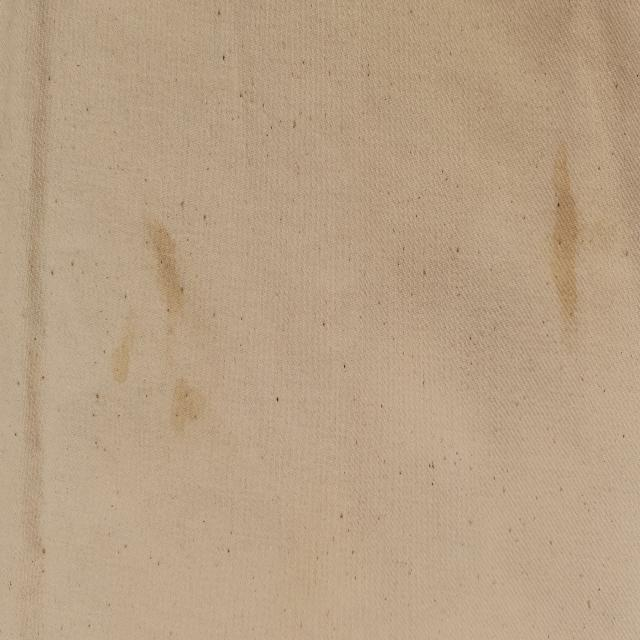taaaches: (530, 128, 599, 338), (149, 217, 187, 321), (170, 368, 204, 444), (108, 319, 134, 395)
